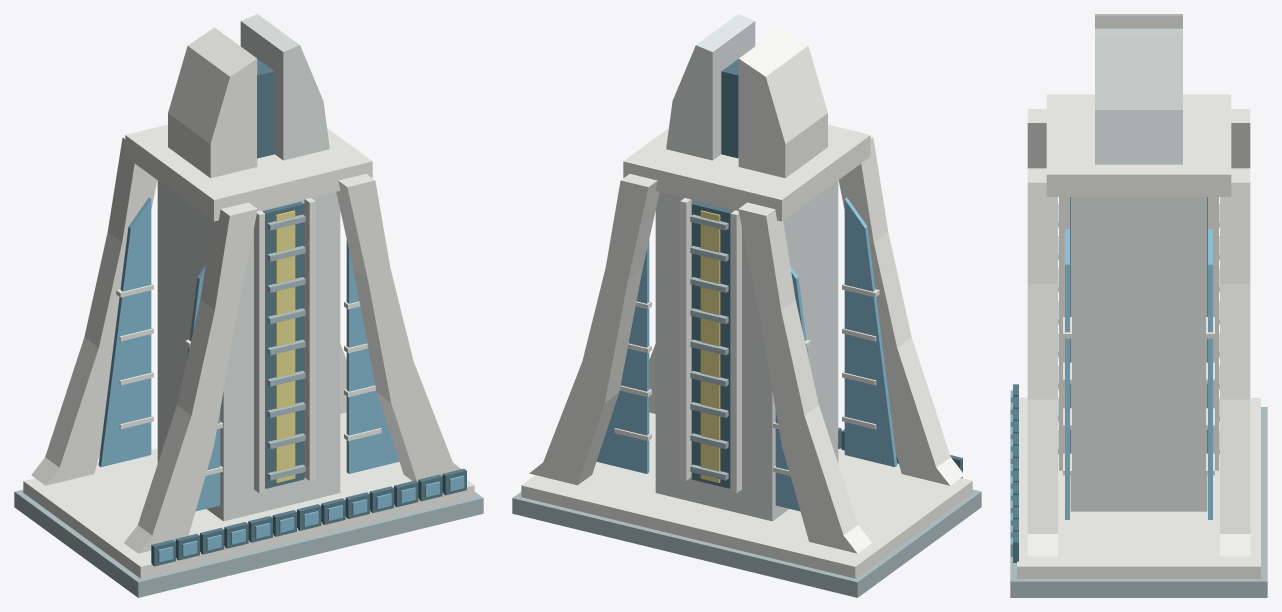
Rendered from 03_buttressed_reactor.glb.
The picture shows the model from 3 angles, left to right: view 1: azimuth 30°, elevation 25°; view 2: azimuth 150°, elevation 25°; view 3: azimuth 270°, elevation 25°; orthographic projection. The views are drawn at different scales.
Parts seen in each view (by area): view 1: curved_buttress (×3), central_core, blue_infill (×3), plinth, split_crown_left, upper_collar, foundation, shaft_rail (×2), split_crown_right, central_shaft_recess, yellow_shaft, crown_slot; view 2: curved_buttress (×3), central_core, plinth, blue_infill (×3), split_crown_left, upper_collar, foundation, shaft_rail (×2), split_crown_right, central_shaft_recess, yellow_shaft, crown_slot; view 3: central_core, curved_buttress (×4), plinth, upper_collar, split_crown_right, foundation, shaft_rail (×2), blue_infill (×2), split_crown_left.
Boxes of the visible parts, box(x1,y1,x2,y2) form: curved_buttress (×3): box(31, 137, 460, 553); central_core: box(157, 180, 340, 521); blue_infill (×3): box(98, 197, 399, 511); plinth: box(23, 412, 474, 578); split_crown_left: box(168, 27, 257, 178); upper_collar: box(125, 124, 372, 221); foundation: box(14, 489, 483, 597); shaft_rail (×2): box(254, 198, 315, 493); split_crown_right: box(240, 14, 329, 160); central_shaft_recess: box(262, 202, 304, 488); yellow_shaft: box(275, 210, 295, 482); crown_slot: box(257, 59, 274, 158); curved_buttress (×3): box(529, 137, 964, 553); central_core: box(655, 180, 838, 521); plinth: box(521, 412, 972, 578); blue_infill (×3): box(596, 197, 897, 511); split_crown_left: box(738, 27, 827, 178); upper_collar: box(623, 124, 870, 221); foundation: box(512, 489, 981, 597); shaft_rail (×2): box(680, 198, 741, 493); split_crown_right: box(666, 14, 755, 160); central_shaft_recess: box(691, 202, 733, 488); yellow_shaft: box(700, 210, 720, 482); crown_slot: box(721, 59, 738, 158); central_core: box(1070, 197, 1207, 511); curved_buttress (×4): box(1027, 109, 1250, 556); plinth: box(1017, 397, 1260, 578); upper_collar: box(1046, 94, 1231, 196); split_crown_right: box(1095, 28, 1182, 164); foundation: box(1010, 407, 1267, 597); shaft_rail (×2): box(1059, 197, 1218, 470); blue_infill (×2): box(1065, 229, 1212, 519); split_crown_left: box(1095, 14, 1182, 28).
Size of the model in its own units: 3.7 by 4.85 by 2.3.
